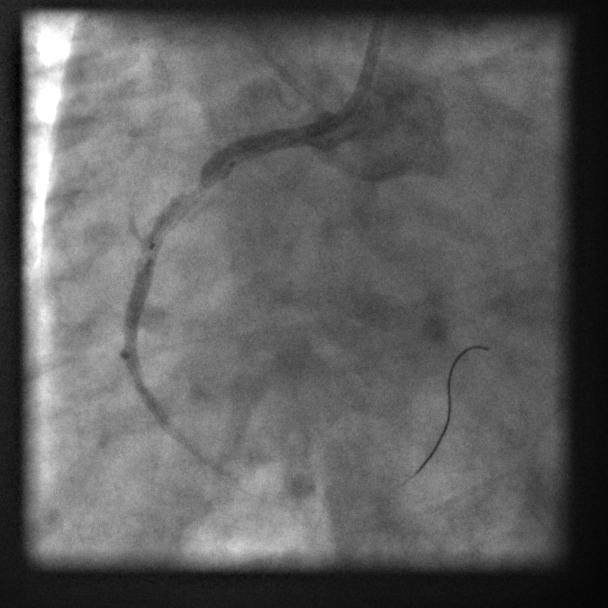Stenosis: (178, 166, 217, 213)
